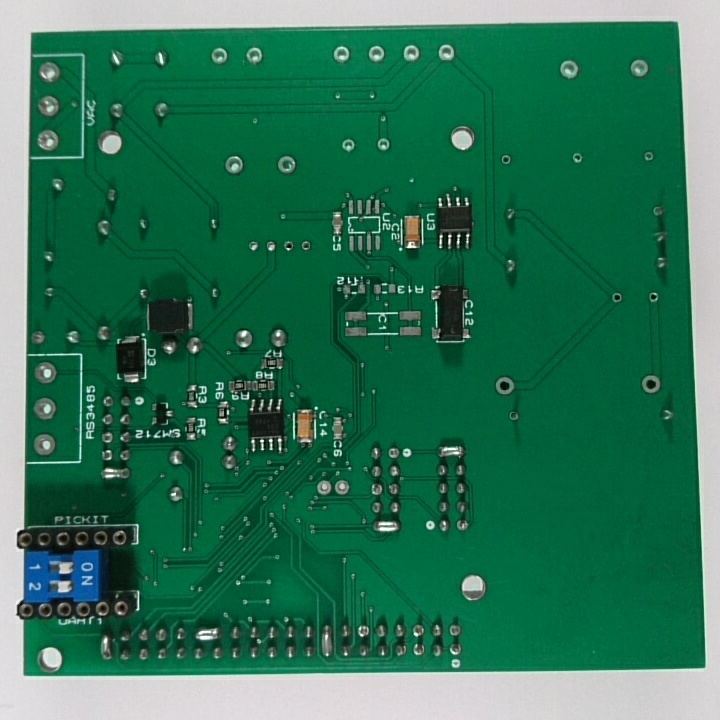F: (29, 395, 61, 423), (29, 431, 59, 460), (35, 58, 62, 86), (32, 360, 61, 386), (556, 58, 584, 84), (33, 129, 62, 154), (491, 375, 520, 400), (626, 55, 652, 82), (637, 372, 665, 397), (37, 94, 62, 119), (222, 153, 247, 178), (274, 153, 300, 176), (399, 43, 423, 66), (436, 42, 459, 66), (208, 44, 230, 67), (331, 43, 352, 66), (366, 43, 387, 66), (242, 46, 265, 66), (355, 621, 374, 641), (332, 480, 352, 498), (30, 329, 47, 350), (373, 136, 393, 153), (454, 515, 471, 535), (410, 641, 427, 660), (315, 479, 332, 498), (447, 641, 463, 661), (368, 481, 385, 499), (646, 289, 662, 307), (340, 138, 356, 155), (386, 445, 402, 462), (610, 288, 624, 307), (99, 429, 115, 445), (649, 205, 665, 220), (245, 240, 261, 255), (641, 152, 658, 166), (265, 240, 279, 256), (507, 409, 521, 424), (300, 238, 313, 254), (572, 153, 585, 168), (499, 154, 513, 167), (283, 239, 296, 253)
P: (317, 620, 336, 662), (369, 517, 404, 537), (194, 622, 222, 646), (96, 464, 133, 481), (435, 441, 467, 460), (97, 632, 113, 665)
